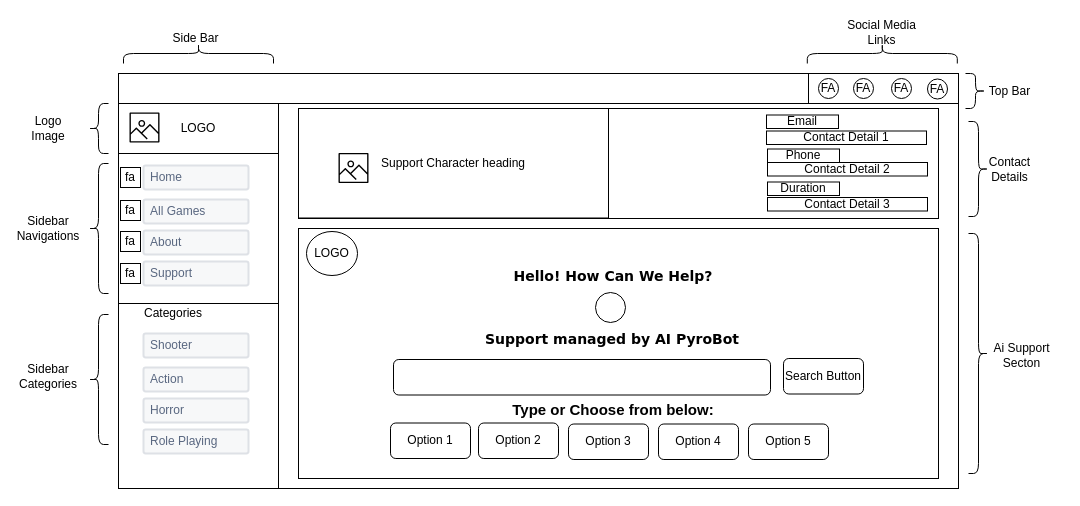
This 1080x506 diagram has some shape labels left out. The centre of each missing label's shape, as x and y in pixels:
"AI" goes at point (610, 307).
"Question bar" goes at point (581, 376).
